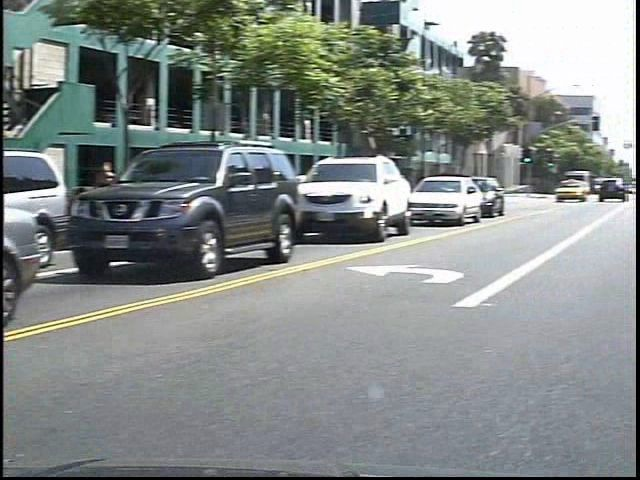person: (111, 156, 152, 235)
